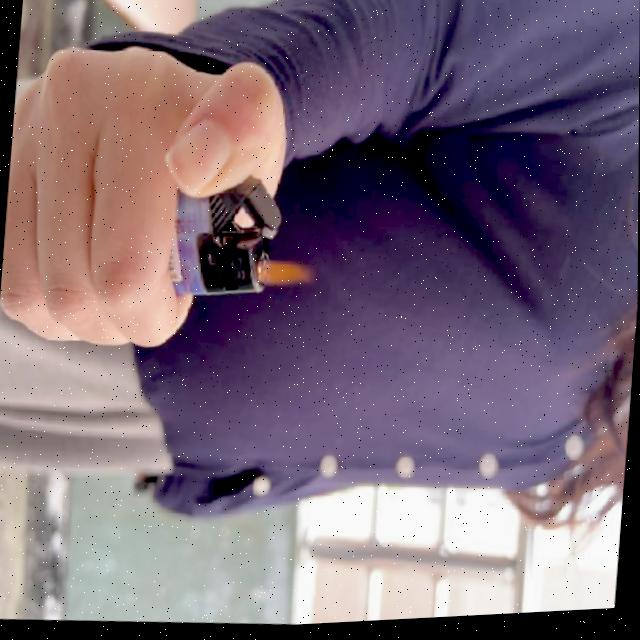Fire: (252, 257, 318, 292)
